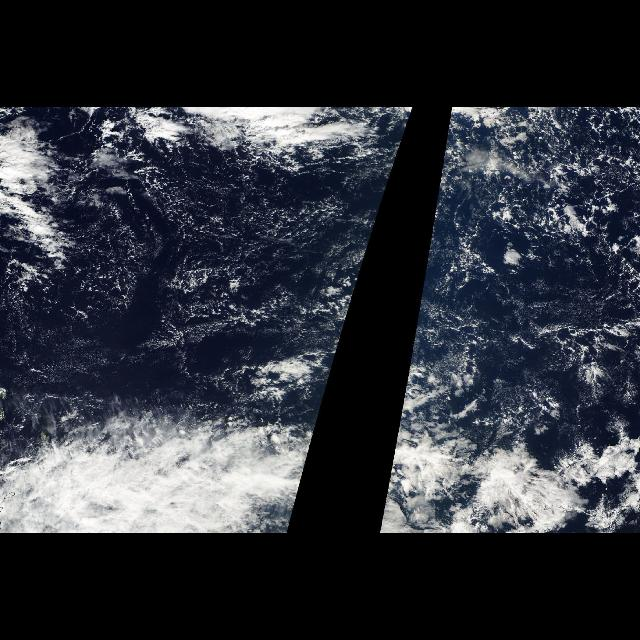Gravel: (95, 167, 383, 327), (454, 108, 640, 292)
Sugar: (140, 165, 394, 347), (410, 165, 468, 347)
